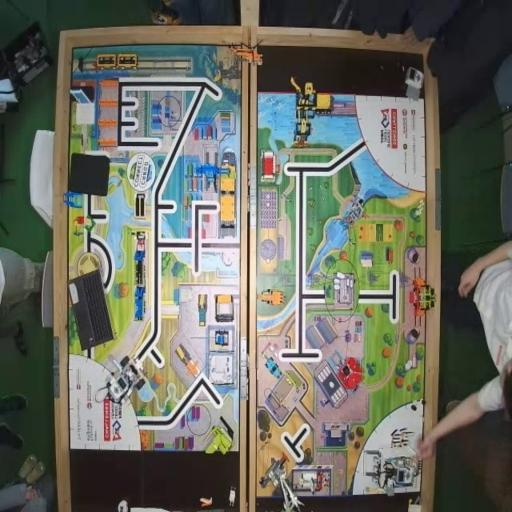lego_robot: (364, 448, 421, 497), (94, 354, 146, 405)
